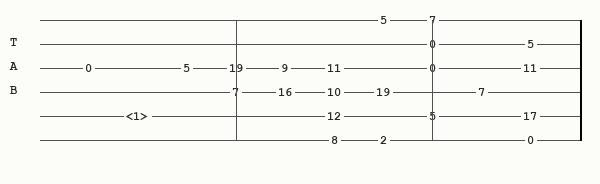0: (85, 62, 96, 74), (429, 62, 440, 74), (429, 38, 440, 50), (527, 134, 538, 146)
10: (327, 86, 345, 98)
11: (327, 62, 345, 74), (523, 62, 541, 74)
12: (327, 110, 345, 122)
16: (278, 86, 296, 98)
17: (523, 110, 541, 122)
19: (229, 62, 247, 74), (376, 86, 394, 98)
2: (380, 134, 391, 146)
5: (183, 62, 194, 74), (380, 14, 391, 26), (429, 110, 440, 122), (527, 38, 538, 50)
7: (232, 86, 243, 98), (429, 14, 440, 26), (478, 86, 489, 98)
8: (331, 134, 342, 146)
9: (281, 62, 292, 74)
harmonic: (126, 110, 153, 122)
